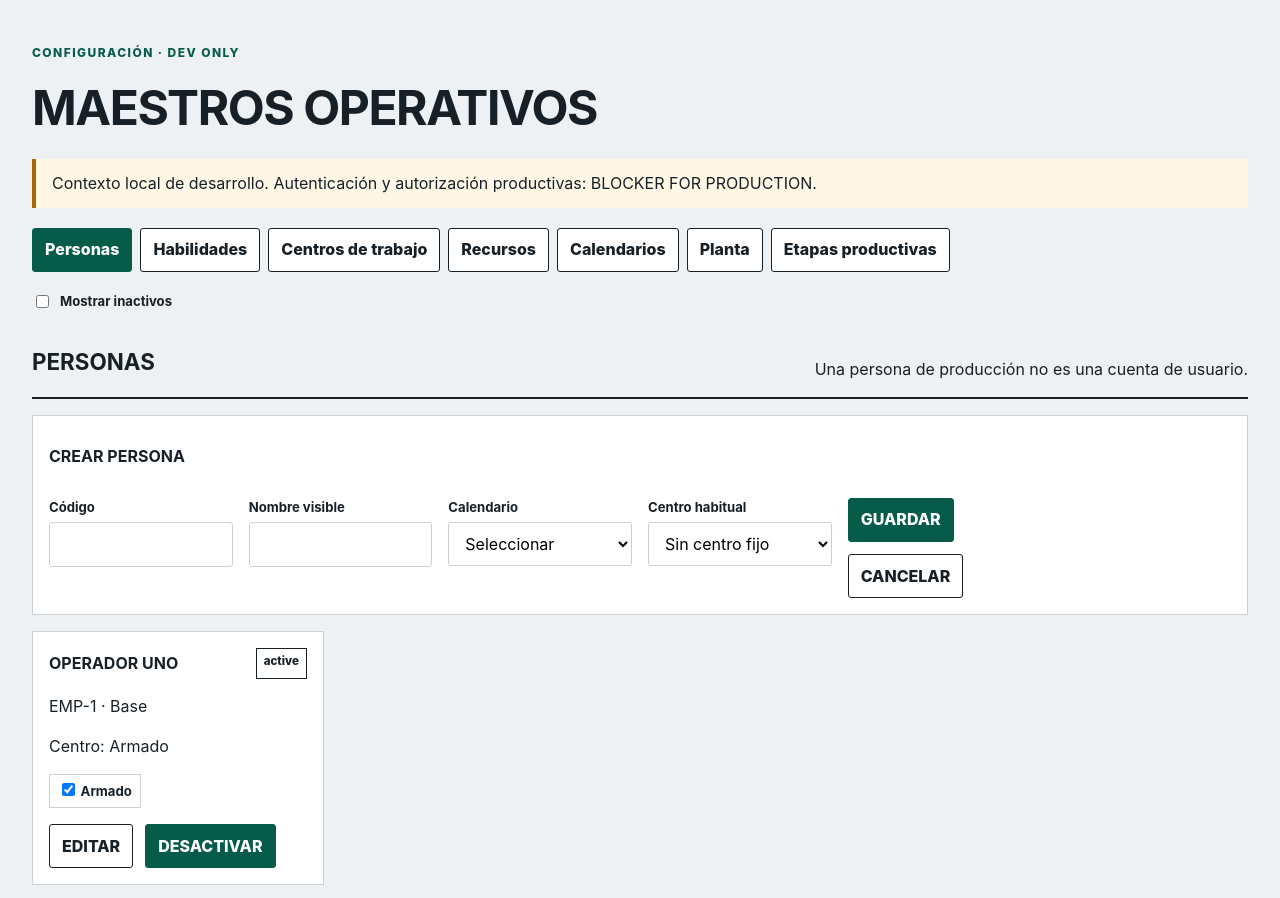
Scenario: edita y advierte antes de desactivar una persona usada por CURRENT
Expected: the heading "Operador Uno" is shown, left=49, top=652, right=178, bottom=676
What coordinates should you click on to do the following:
click the button "DESACTIVAR"
I would click on:
 (210, 846)
Its box is left=145, top=824, right=276, bottom=868.
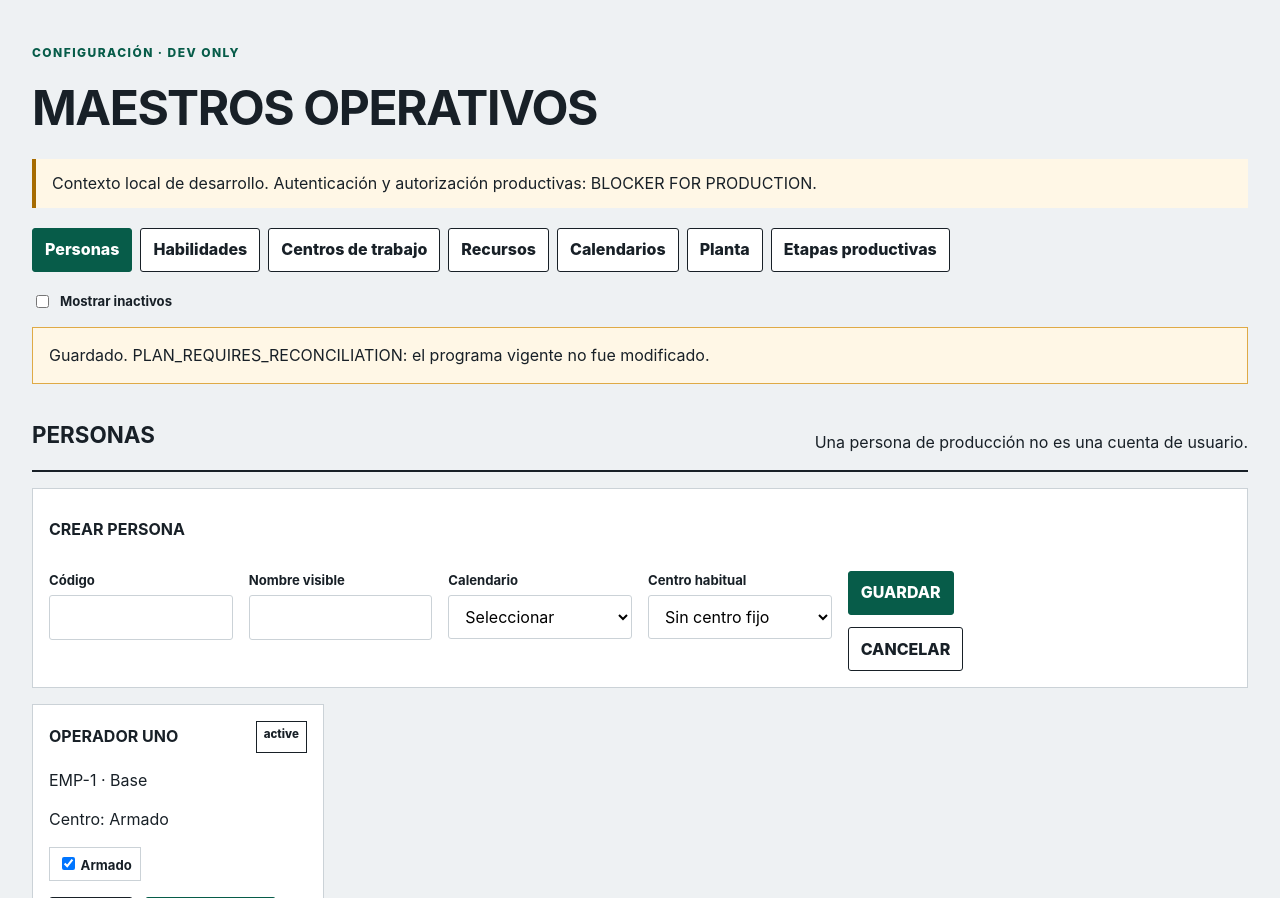
Now the text "Guardado. PLAN_REQUIRES_RECONCILIATION: el programa vigente no fue modificado." is shown, box left=32, top=327, right=1248, bottom=384
